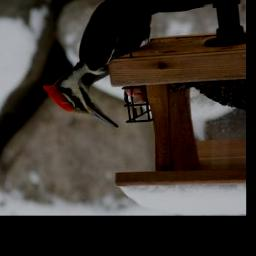Woodpecker: (31, 0, 224, 128)
